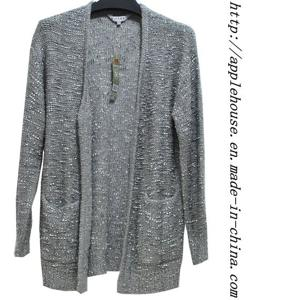C_cardigan sweater: (8, 12, 209, 300)
